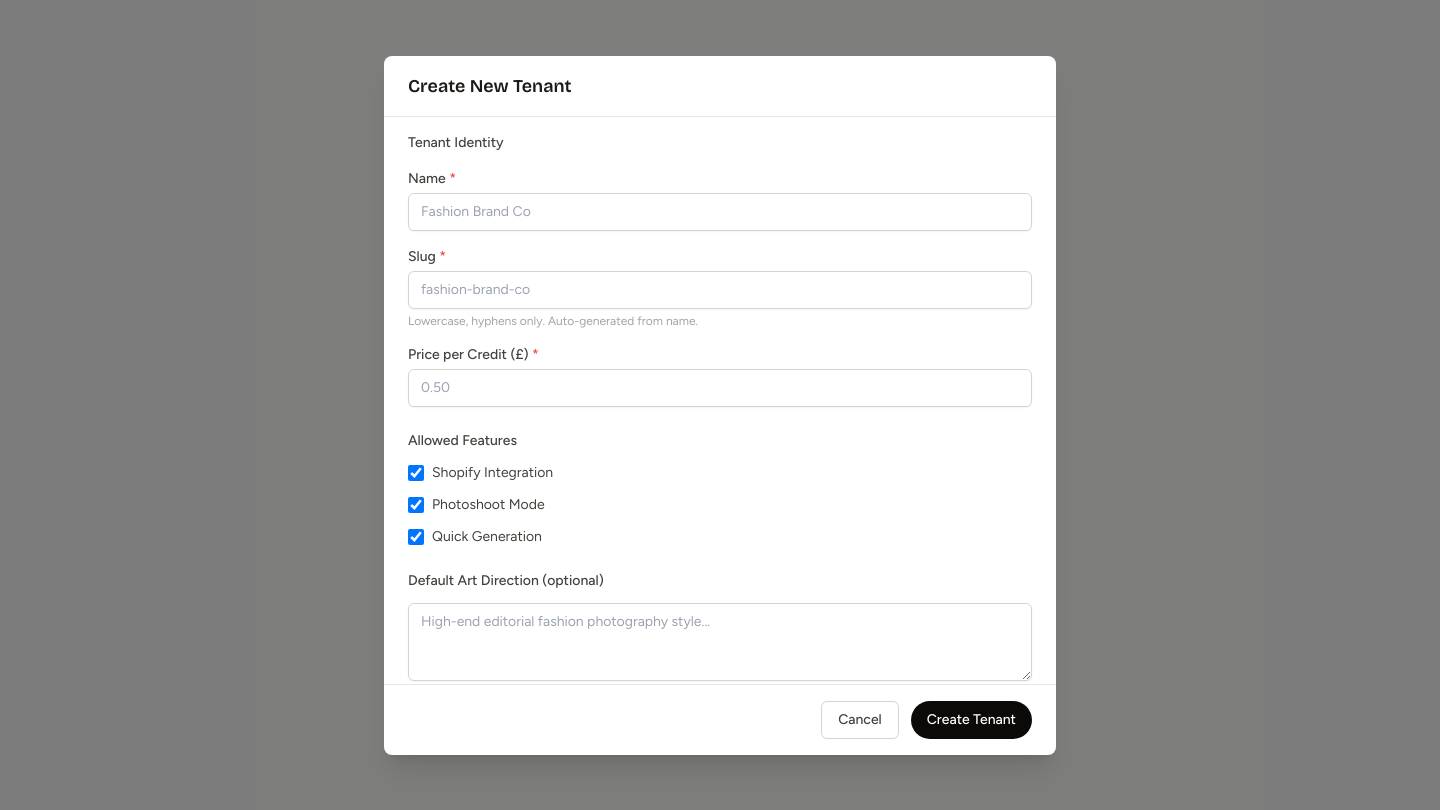
Test: CreateTenantDialog › validation › shows field errors on invalid submit
# Submit with empty form
Click the button "Create Tenant": {"x": 971, "y": 720} top-left (911, 700), bottom-right (1032, 738)
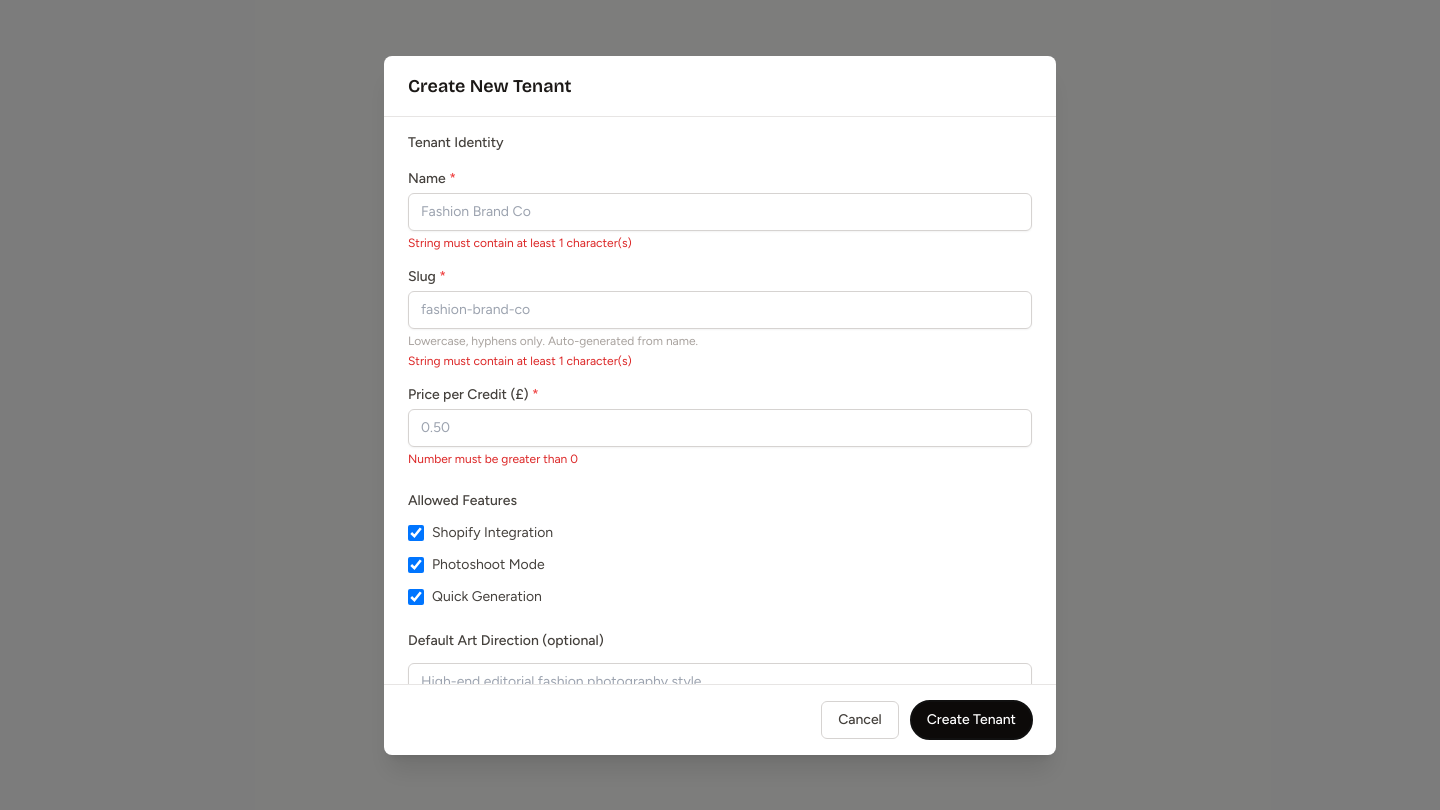
Check: the 1st message is shown, box top-left (408, 236), bottom-right (632, 250)
